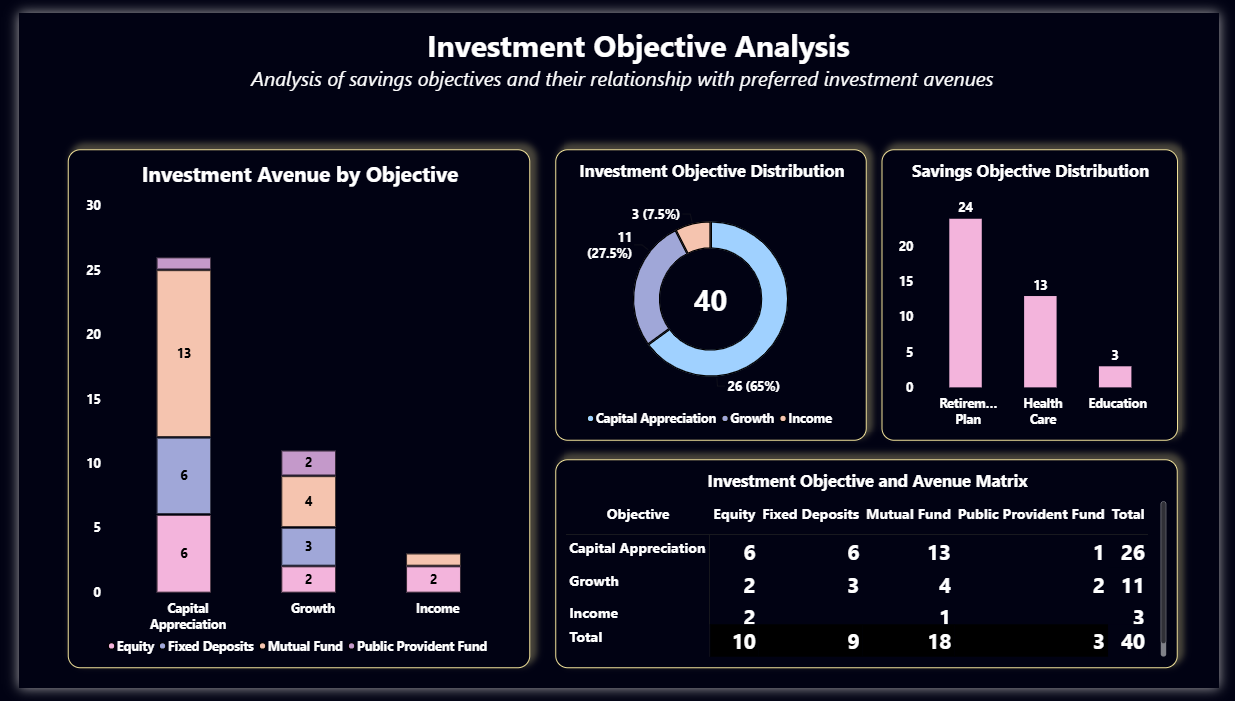

This screenshot's page, from the dashboard's own definition file:
{"tool":"powerbi","page":{"name":"Objective Analysis","canvas":[1920,1080],"ordinal":2},"visuals":[{"type":"textbox","box":[128,18,1726,66],"z":4000},{"type":"columnChart","title":"Investment Avenue by Objective","fields":{"Y":["CountNonNull(Investments.Avenue)"],"Category":["Investments.Objective"],"Series":["Investments.Avenue"]},"box":[78,218,740,830],"z":5000},{"type":"donutChart","title":"Investment Objective Distribution","fields":{"Category":["Investments.Objective"],"Y":["CountNonNull(Investments.Objective)"]},"box":[858,218,498,466],"z":6000},{"type":"pivotTable","title":"Investment Objective and Avenue Matrix","fields":{"Rows":["Investments.Objective"],"Columns":["Investments.Avenue"],"Values":["CountNonNull(Investments.Avenue)"]},"box":[858,714,996,334],"z":7000},{"type":"clusteredColumnChart","title":"Savings Objective Distribution","fields":{"Category":["Investments.What are your savings objectives?"],"Y":["CountNonNull(Investments.What are your savings objectives?)"]},"box":[1380,218,474,466],"z":8001},{"type":"textbox","box":[77.5,82.5,1775,55],"z":8002}]}

Visuals, with their boxes in screenshot pixels (x1, y1, x2, y2), scaled from the page's 1920x1080 canvas onto the 1235x701 screenshot:
textbox: 82/12/1193/55
"Investment Avenue by Objective" columnChart: 50/141/526/680
"Investment Objective Distribution" donutChart: 552/141/872/444
"Investment Objective and Avenue Matrix" pivotTable: 552/463/1193/680
"Savings Objective Distribution" clusteredColumnChart: 888/141/1193/444
textbox: 50/54/1192/89
